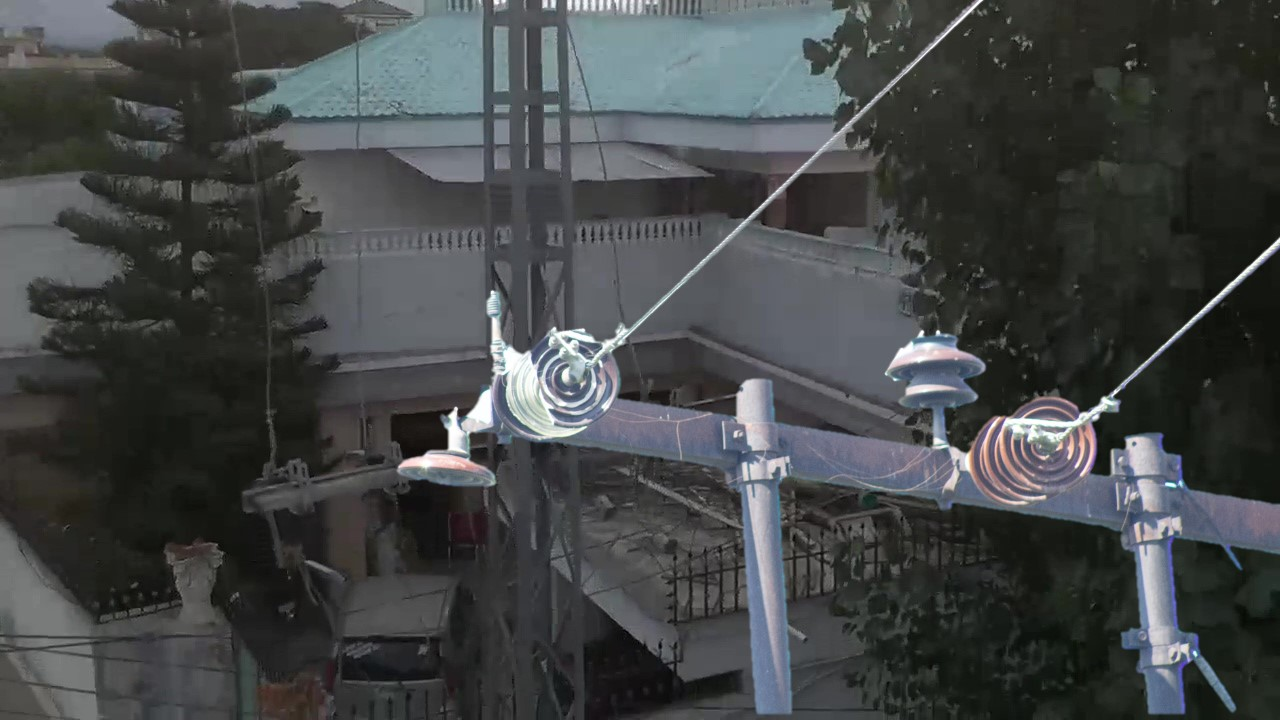defect_disc: (531, 319, 626, 430)
insulator_disc: (996, 392, 1100, 489), (389, 433, 500, 498)
